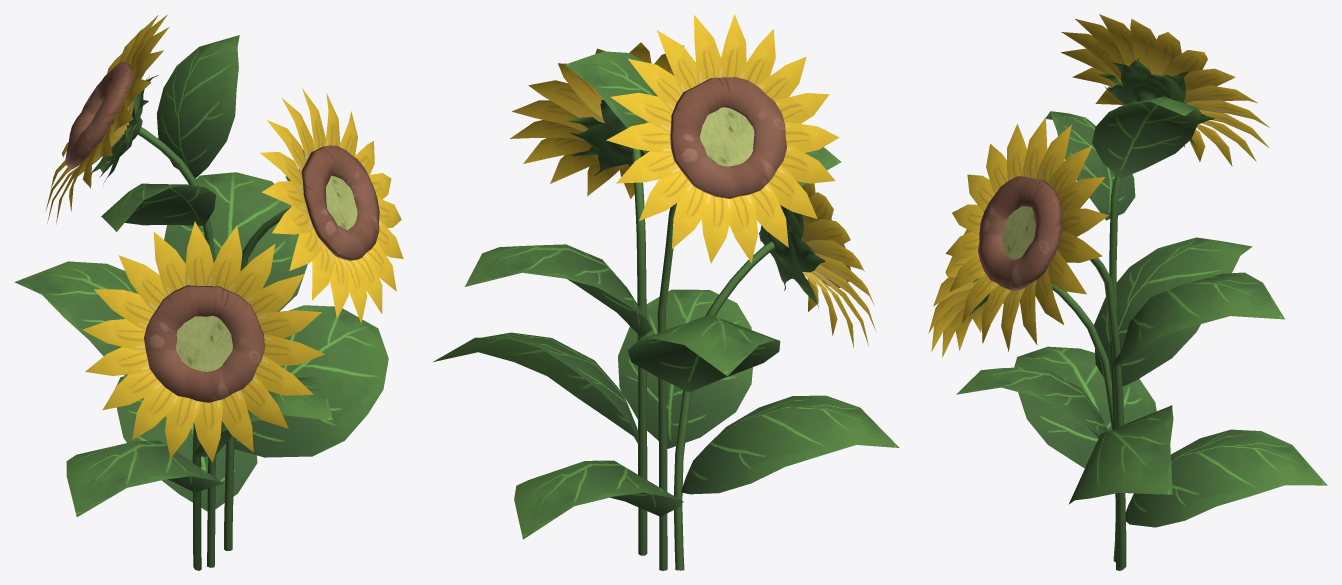
Rendered from MemoRoute_SunFlower.fbx.
The picture shows the model from 3 angles, left to right: view 1: azimuth 30°, elevation 25°; view 2: azimuth 150°, elevation 25°; view 3: azimuth 270°, elevation 25°; orthographic projection. The views are drawn at different scales.
Parts seen in each view (by area): view 1: MemoRoute_SunFlower; view 2: MemoRoute_SunFlower; view 3: MemoRoute_SunFlower.
Part boxes in pixels (<box>): MemoRoute_SunFlower: <box>14,14,403,570</box>; MemoRoute_SunFlower: <box>432,14,899,570</box>; MemoRoute_SunFlower: <box>928,14,1327,570</box>.
Size of the model in its own units: 7.02 by 9.74 by 6.6.
